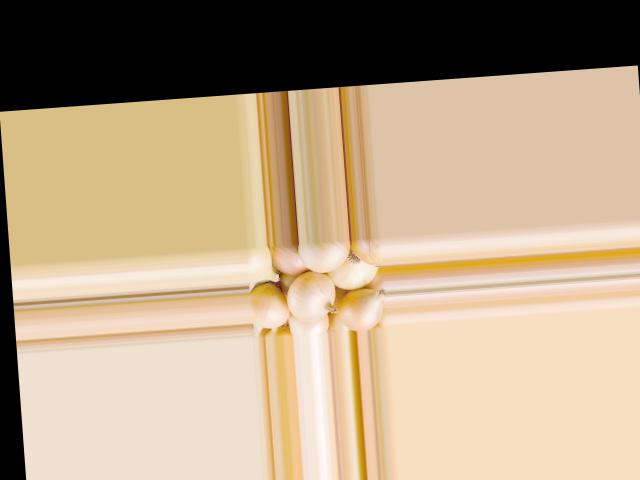onion: (286, 309, 332, 335)
